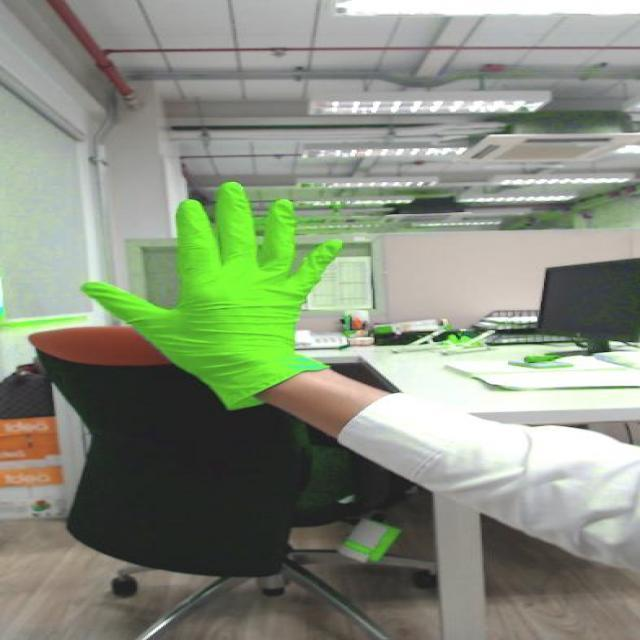gloved_hand: (77, 159, 337, 415)
